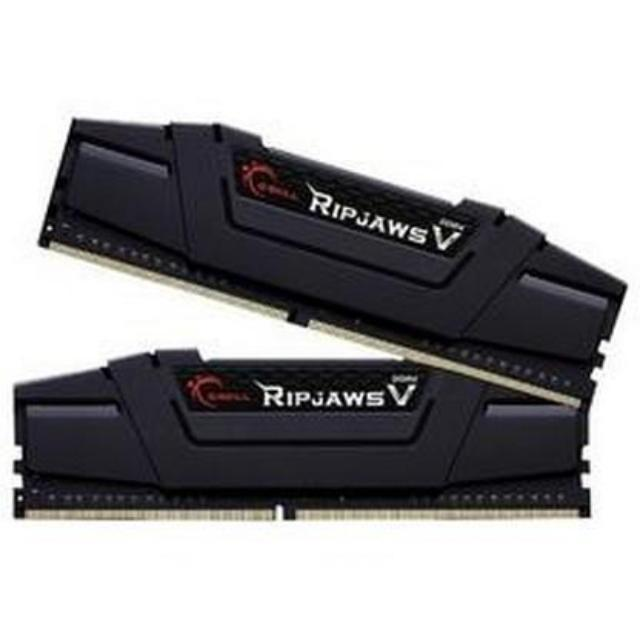RAM: (31, 108, 636, 406), (6, 348, 600, 530)
